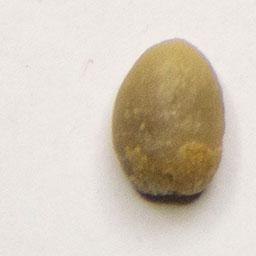longberry: (108, 33, 228, 205)
